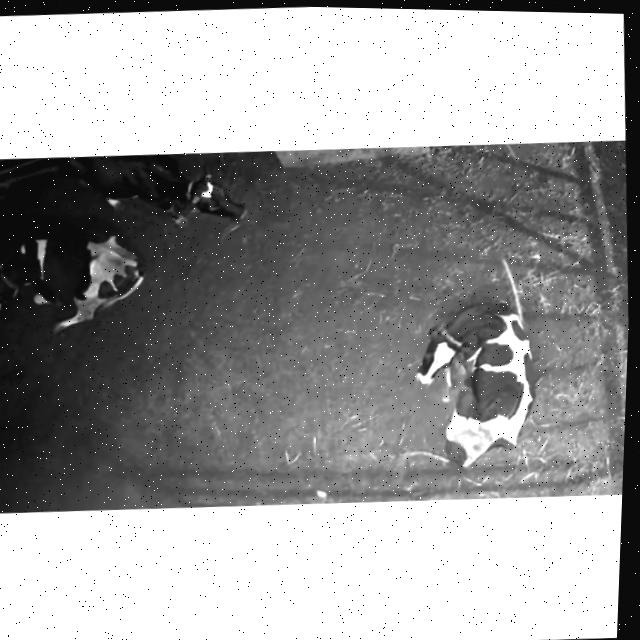lay: (396, 274, 555, 484), (0, 220, 152, 344)
